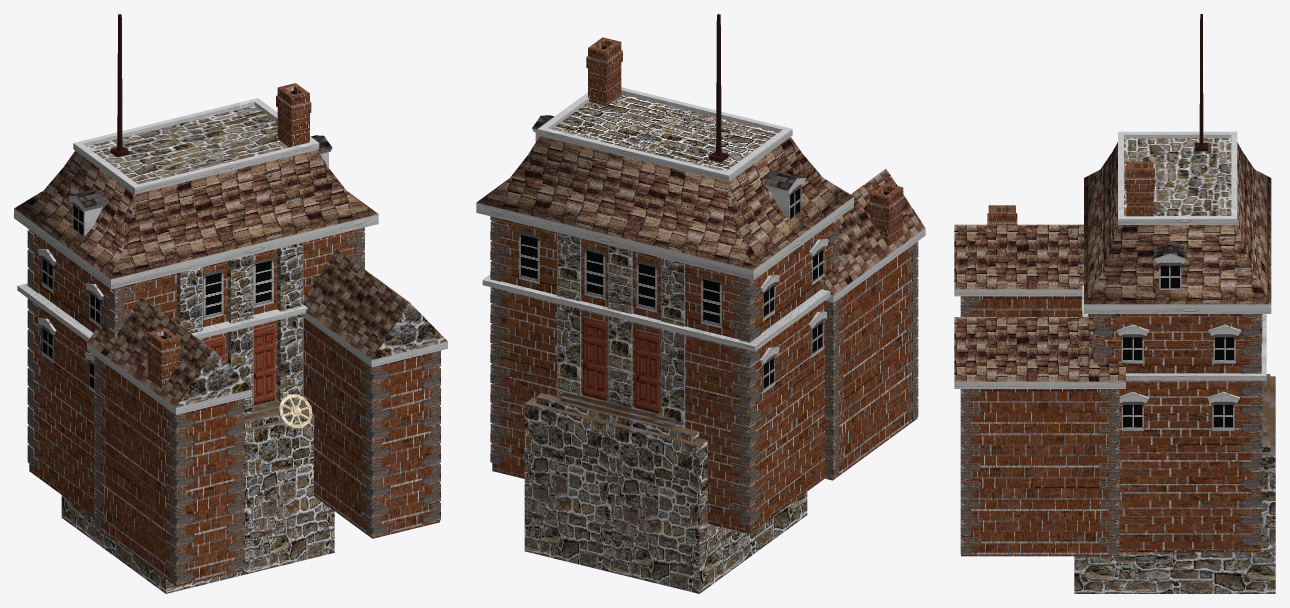
The model's file is brit_barracks.dae.
3 renders of one model, left to right at view 1: azimuth 30°, elevation 25°; view 2: azimuth 150°, elevation 25°; view 3: azimuth 270°, elevation 25°, orthographic. The views are drawn at different scales.
Visible parts, largest first — view 1: BRITBarracks; view 2: BRITBarracks; view 3: BRITBarracks.
Part boxes in pixels (x1,y1,x2,y2): BRITBarracks: (14,14,447,593); BRITBarracks: (476,14,925,593); BRITBarracks: (954,14,1275,593).
Size of the model in its own units: 19.87 by 21.03 by 36.74.
